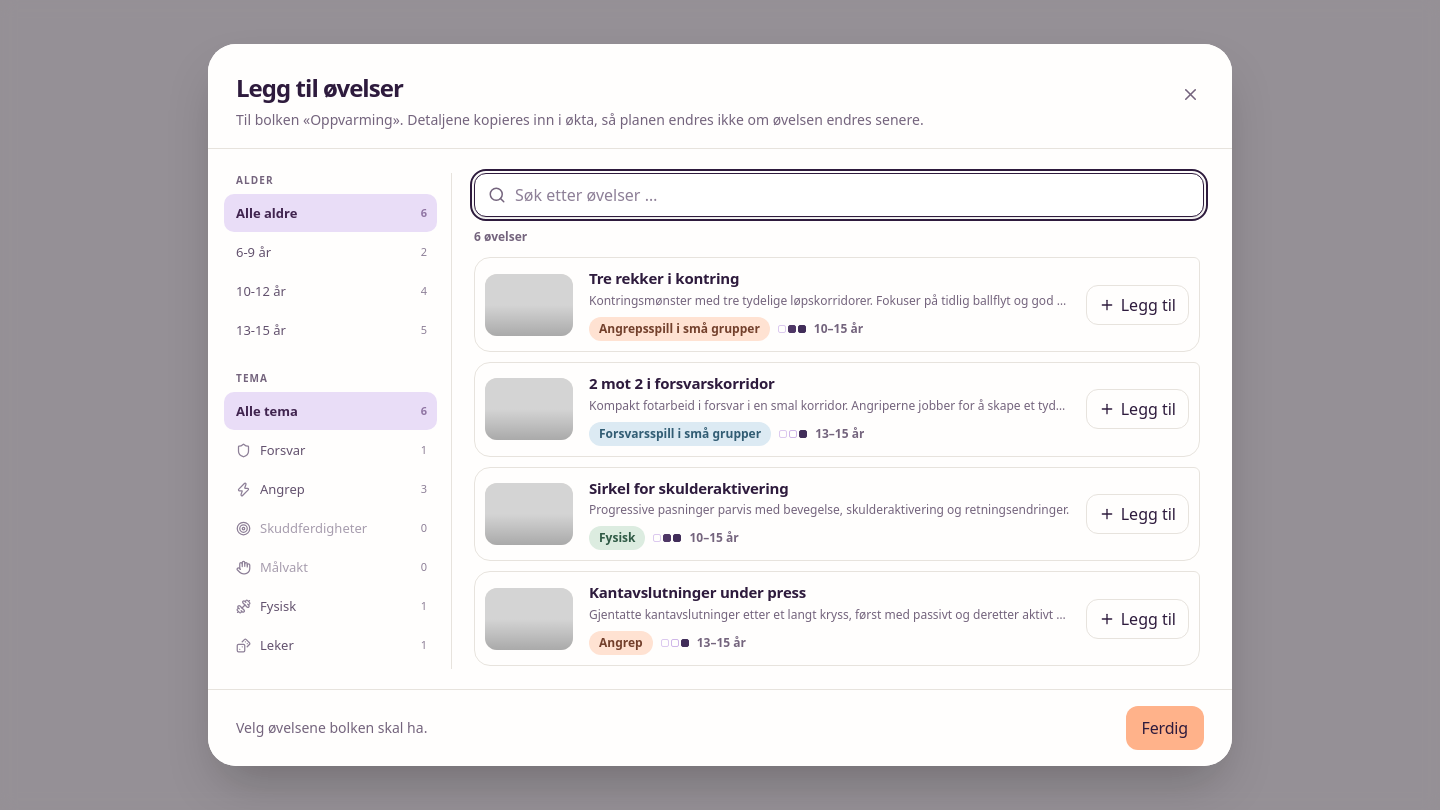
Scenario: ExercisePicker › narrows a topic to one of its undertema
Click the button "Angrep 3" at (330, 489), box [224, 470, 437, 508]
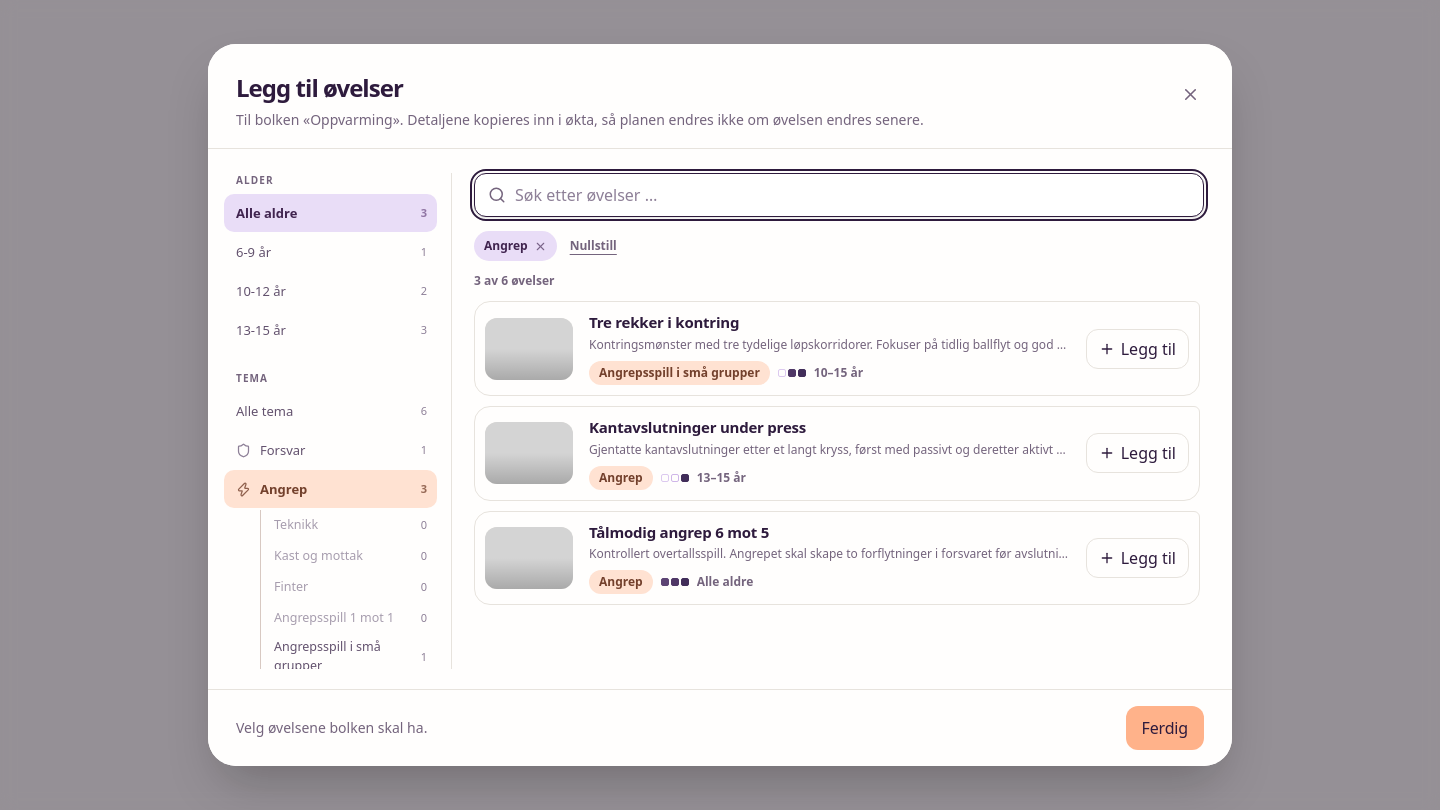
Expected: the text "Tålmodig angrep 6 mot 5" is shown, [589, 522, 769, 542]
Click the button "Angrepsspill i små grupper 1" at (351, 657), box [265, 634, 437, 680]
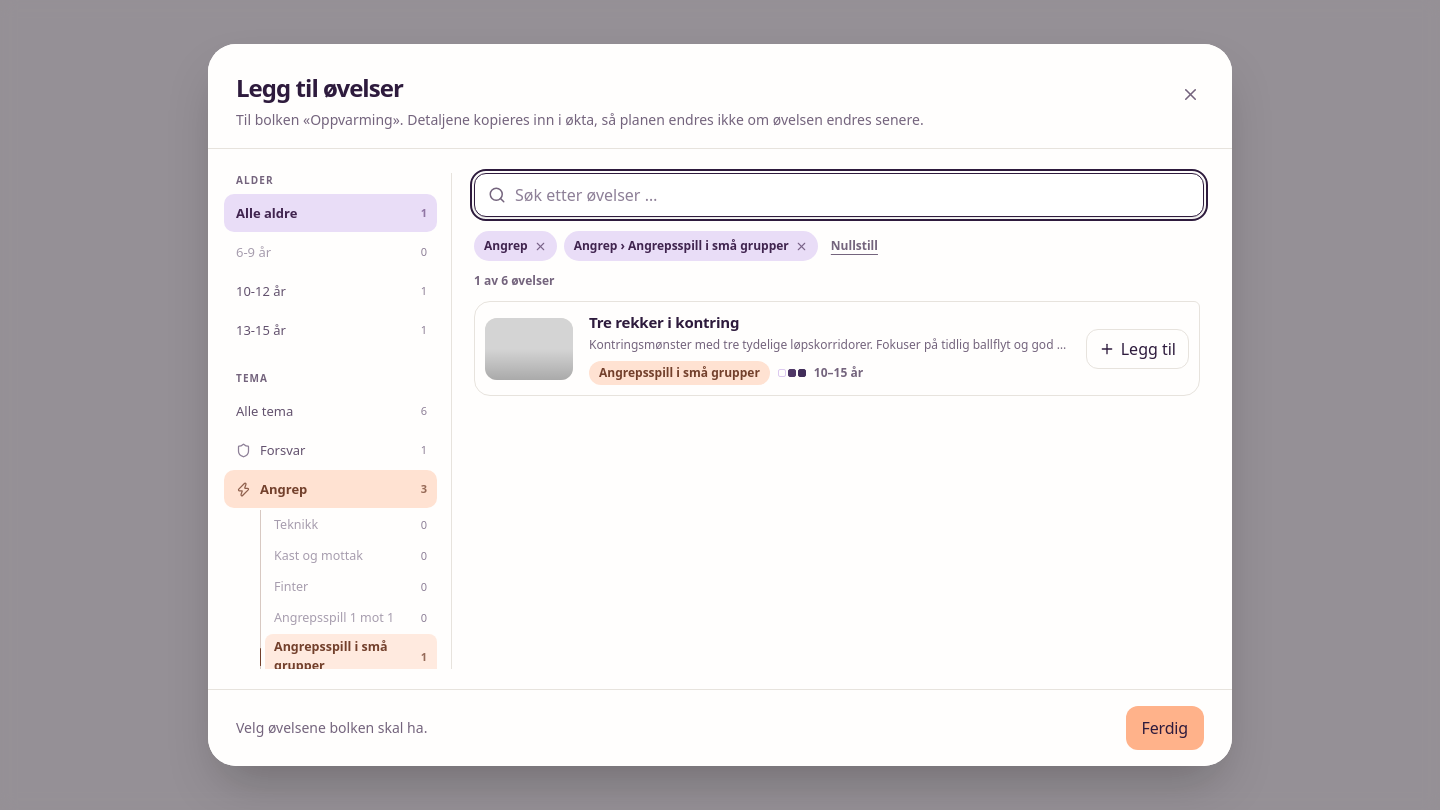
Expected: the text "Tre rekker i kontring" is shown, [589, 312, 739, 332]
Expected: the text "Tålmodig angrep 6 mot 5" is gone
Expected: the button with aria-label "Fjern filteret Angrep › Angrepsspill i små grupper" is shown, [564, 231, 818, 261]
